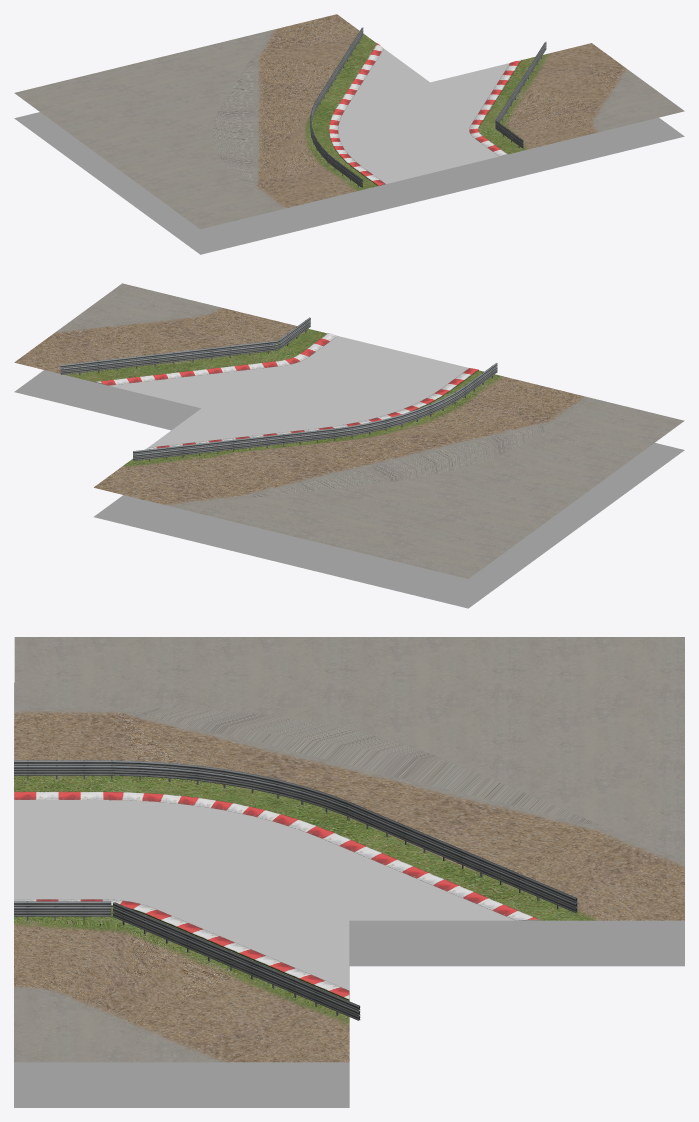
File: Track_Curve_To_45Degree_Gravel.fbx
The picture shows the model from 3 angles, top to bottom: view 1: azimuth 30°, elevation 25°; view 2: azimuth 150°, elevation 25°; view 3: azimuth 270°, elevation 25°; orthographic projection. The views are drawn at different scales.
Parts seen in each view (by area): view 1: Concrete_A, Gravel_A, Snap_Plane_Invisible, Road, Gravel_B, Grass, Concrete_B, Curb_A, Rail_A, Curb_B, Rail_B; view 2: Concrete_A, Gravel_A, Snap_Plane_Invisible, Road, Gravel_B, Grass, Rail_A, Concrete_B, Rail_B, Curb_B, Curb_A; view 3: Concrete_A, Gravel_A, Road, Snap_Plane_Invisible, Gravel_B, Grass, Rail_A, Concrete_B, Rail_B, Curb_A, Curb_B.
Boxes of the visible parts, x1,y1,x2,y2 form: Concrete_A: (14, 31, 280, 229); Gravel_A: (212, 14, 364, 209); Snap_Plane_Invisible: (14, 112, 684, 254); Road: (338, 49, 509, 183); Gravel_B: (499, 43, 630, 150); Grass: (308, 35, 543, 189); Concrete_B: (598, 72, 684, 130); Curb_A: (329, 43, 385, 185); Rail_A: (310, 27, 363, 187); Curb_B: (469, 59, 521, 156); Rail_B: (495, 41, 546, 148); Concrete_A: (173, 398, 684, 578); Gravel_A: (94, 375, 590, 506); Snap_Plane_Invisible: (14, 370, 684, 608); Road: (109, 336, 468, 447); Gravel_B: (14, 306, 309, 376); Grass: (71, 329, 496, 463); Rail_A: (133, 363, 497, 461); Concrete_B: (60, 283, 215, 329); Rail_B: (60, 317, 310, 375); Curb_B: (95, 333, 337, 385); Curb_A: (145, 368, 478, 449); Concrete_A: (14, 637, 684, 860); Gravel_A: (14, 707, 684, 920); Road: (14, 800, 514, 990); Snap_Plane_Invisible: (14, 682, 684, 1107); Gravel_B: (14, 920, 349, 1062); Grass: (14, 778, 583, 1019); Rail_A: (14, 760, 577, 912); Concrete_B: (14, 991, 207, 1062); Rail_B: (14, 901, 360, 1020); Curb_A: (14, 791, 539, 920); Curb_B: (14, 899, 349, 1000).
Bounding box in the file's own units: 60 × 4.24 × 40.
